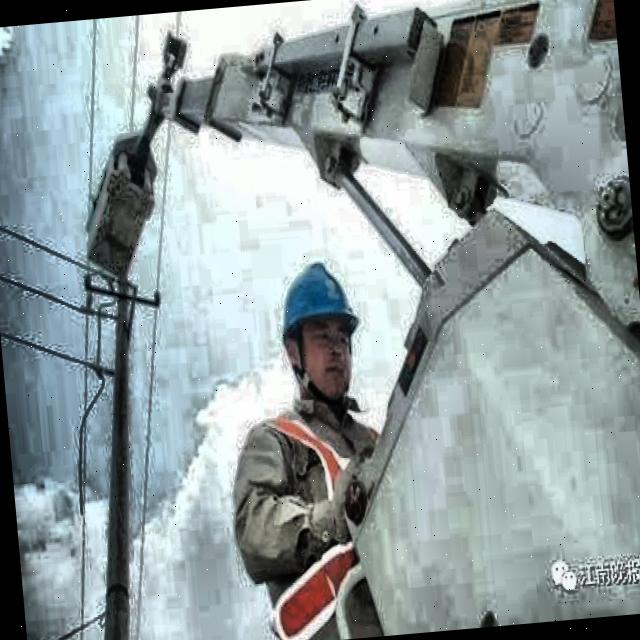helmet: (263, 238, 375, 413)
